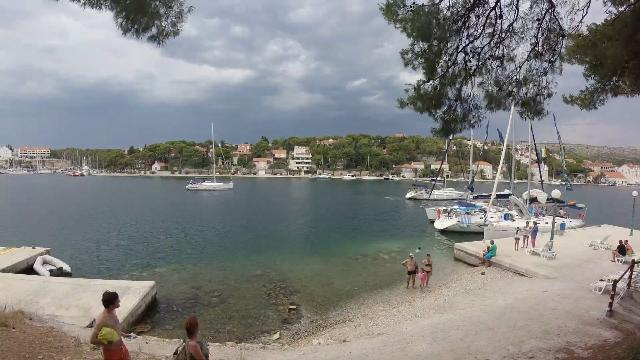Sailboat: (184, 173, 238, 196)
